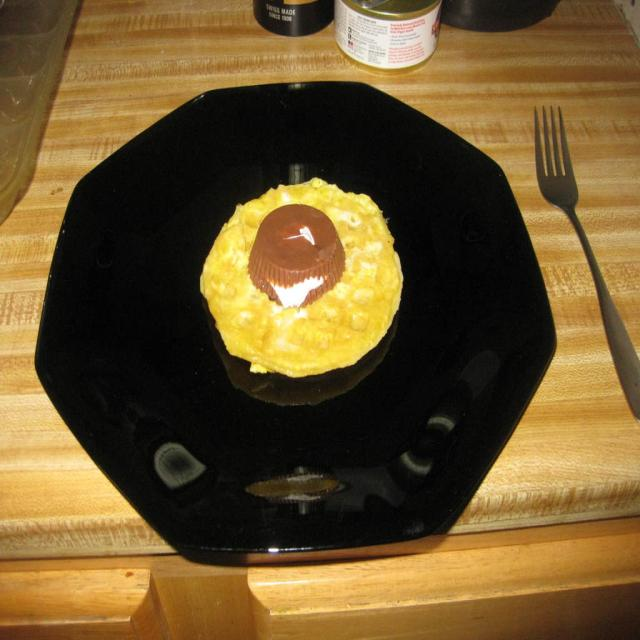Egg: (198, 174, 403, 378)
